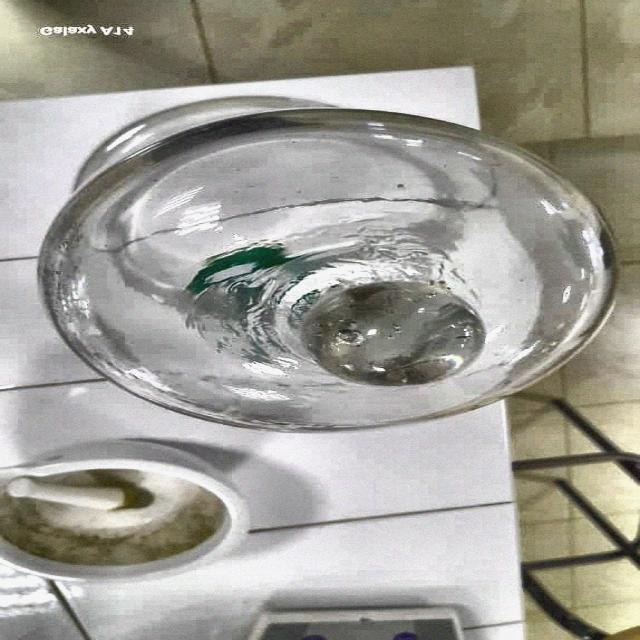Gas Bottle: (34, 88, 606, 428)
